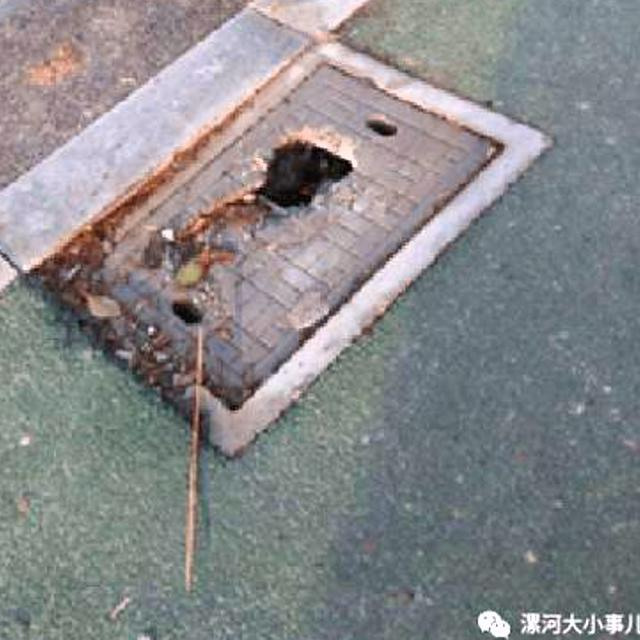broke: (18, 9, 584, 454)
